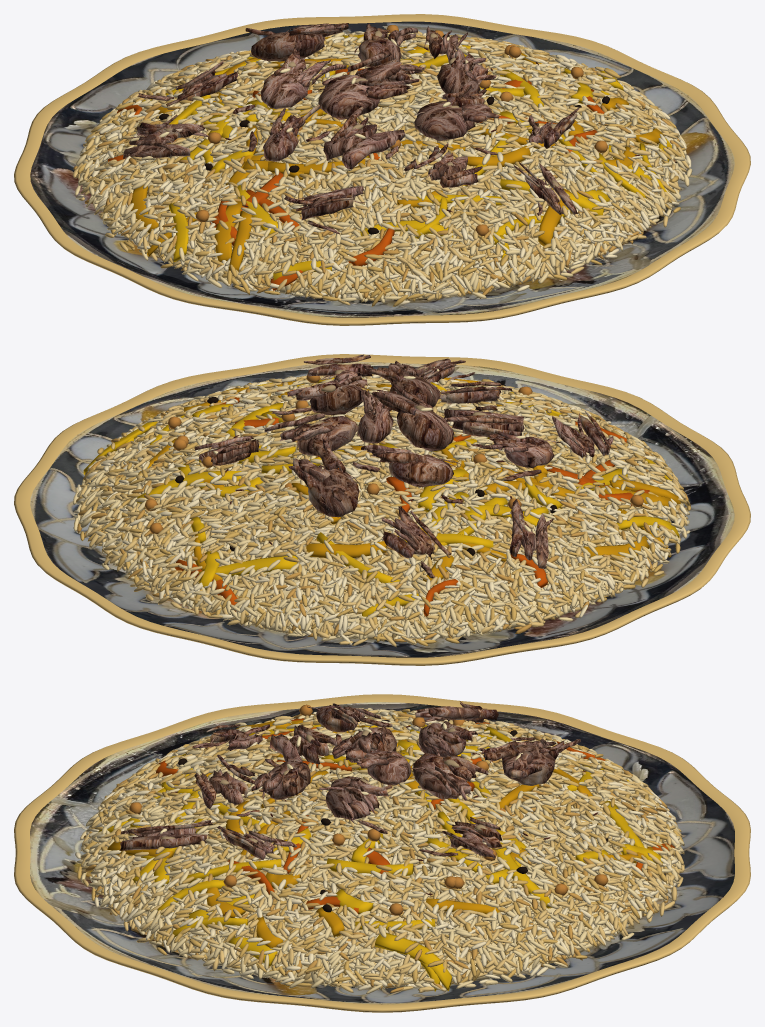
Rendered from toyosh.glb.
3 views of the same model, one above another, from view 1: azimuth 30°, elevation 25°; view 2: azimuth 150°, elevation 25°; view 3: azimuth 270°, elevation 25° (orthographic).
Parts seen in each view (by area): view 1: 03_Individual_Long_Grain_Rice, 01_Handpainted_Porcelain_Lagan, 05_Slow_Cooked_Meat_Pieces, 04_Braised_Yellow_and_Orange_Carrots, 09_Additional_Surface_Rice, 02_Rice_Interior, 08_Chickpeas_Raisins_and_Cumin, 10_Rice_Gap_Fill, 06_Torn_Meat_Fibers, 07_Gelatinous_Fat_Seams; view 2: 03_Individual_Long_Grain_Rice, 01_Handpainted_Porcelain_Lagan, 05_Slow_Cooked_Meat_Pieces, 04_Braised_Yellow_and_Orange_Carrots, 09_Additional_Surface_Rice, 02_Rice_Interior, 08_Chickpeas_Raisins_and_Cumin, 10_Rice_Gap_Fill, 06_Torn_Meat_Fibers; view 3: 03_Individual_Long_Grain_Rice, 01_Handpainted_Porcelain_Lagan, 05_Slow_Cooked_Meat_Pieces, 04_Braised_Yellow_and_Orange_Carrots, 09_Additional_Surface_Rice, 02_Rice_Interior, 08_Chickpeas_Raisins_and_Cumin, 10_Rice_Gap_Fill, 06_Torn_Meat_Fibers, 07_Gelatinous_Fat_Seams.
Boxes of the visible parts, x1,y1,x2,y2 form: 03_Individual_Long_Grain_Rice: (73,31,692,306); 01_Handpainted_Porcelain_Lagan: (14,14,750,325); 05_Slow_Cooked_Meat_Pieces: (123,23,579,234); 04_Braised_Yellow_and_Orange_Carrots: (108,34,671,290); 09_Additional_Surface_Rice: (93,44,673,302); 02_Rice_Interior: (98,66,662,300); 08_Chickpeas_Raisins_and_Cumin: (159,25,639,236); 10_Rice_Gap_Fill: (94,74,670,300); 06_Torn_Meat_Fibers: (128,24,563,210); 07_Gelatinous_Fat_Seams: (159,27,559,188); 03_Individual_Long_Grain_Rice: (73,374,690,647); 01_Handpainted_Porcelain_Lagan: (14,354,750,665); 05_Slow_Cooked_Meat_Pieces: (194,354,613,578); 04_Braised_Yellow_and_Orange_Carrots: (83,377,680,616); 09_Additional_Surface_Rice: (94,399,670,642); 02_Rice_Interior: (104,404,663,639); 08_Chickpeas_Raisins_and_Cumin: (145,374,643,555); 10_Rice_Gap_Fill: (95,418,671,639); 06_Torn_Meat_Fibers: (204,365,587,553); 03_Individual_Long_Grain_Rice: (75,708,684,994); 01_Handpainted_Porcelain_Lagan: (14,694,750,1012); 05_Slow_Cooked_Meat_Pieces: (119,701,580,859); 04_Braised_Yellow_and_Orange_Carrots: (98,712,674,991); 09_Additional_Surface_Rice: (103,740,659,990); 02_Rice_Interior: (107,768,651,987); 08_Chickpeas_Raisins_and_Cumin: (129,704,608,915); 10_Rice_Gap_Fill: (100,799,665,988); 06_Torn_Meat_Fibers: (127,705,556,852); 07_Gelatinous_Fat_Seams: (160,708,522,844).
Size of the model in its own units: 0.28 by 0.0633 by 0.2754.
Materials: 18 (15 with a texture image).
